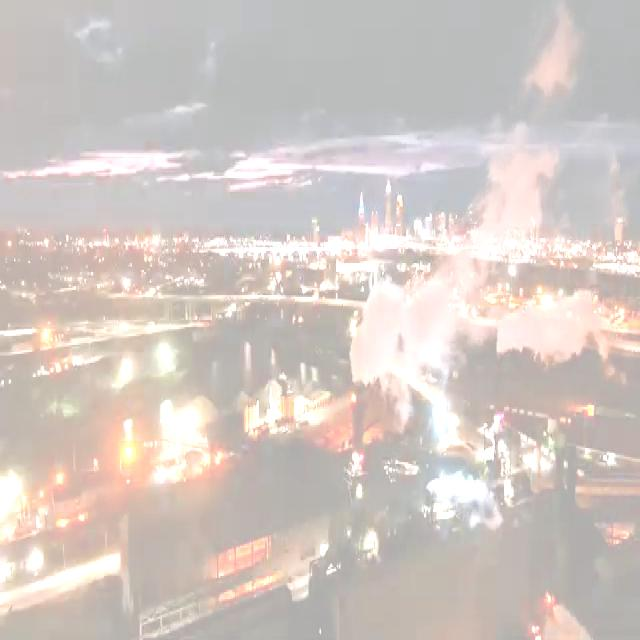smoke: (354, 256, 456, 405), (496, 290, 640, 393), (468, 119, 560, 260)
